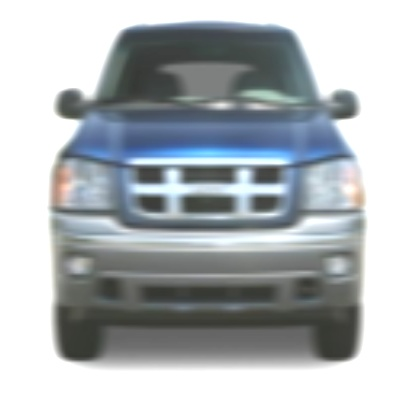Vehicle: (41, 19, 370, 386)
